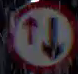Two way: (5, 2, 77, 73)
